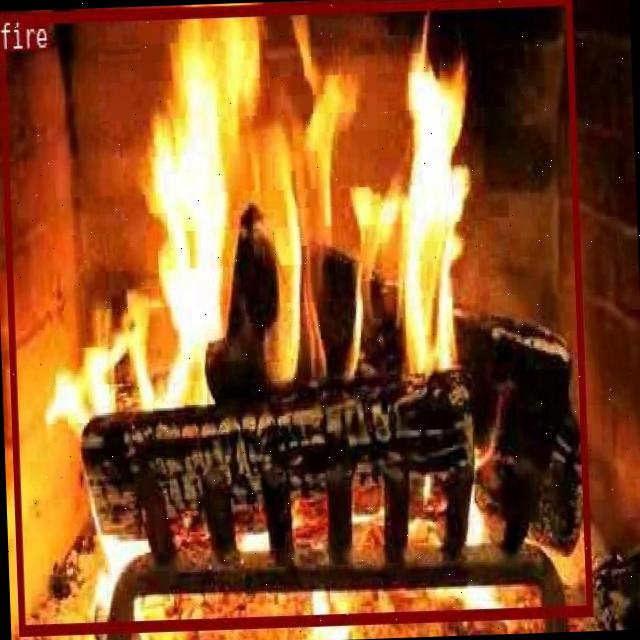fire: (0, 0, 591, 634)
